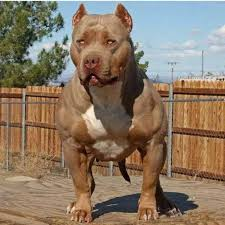dog: (46, 1, 175, 225)
